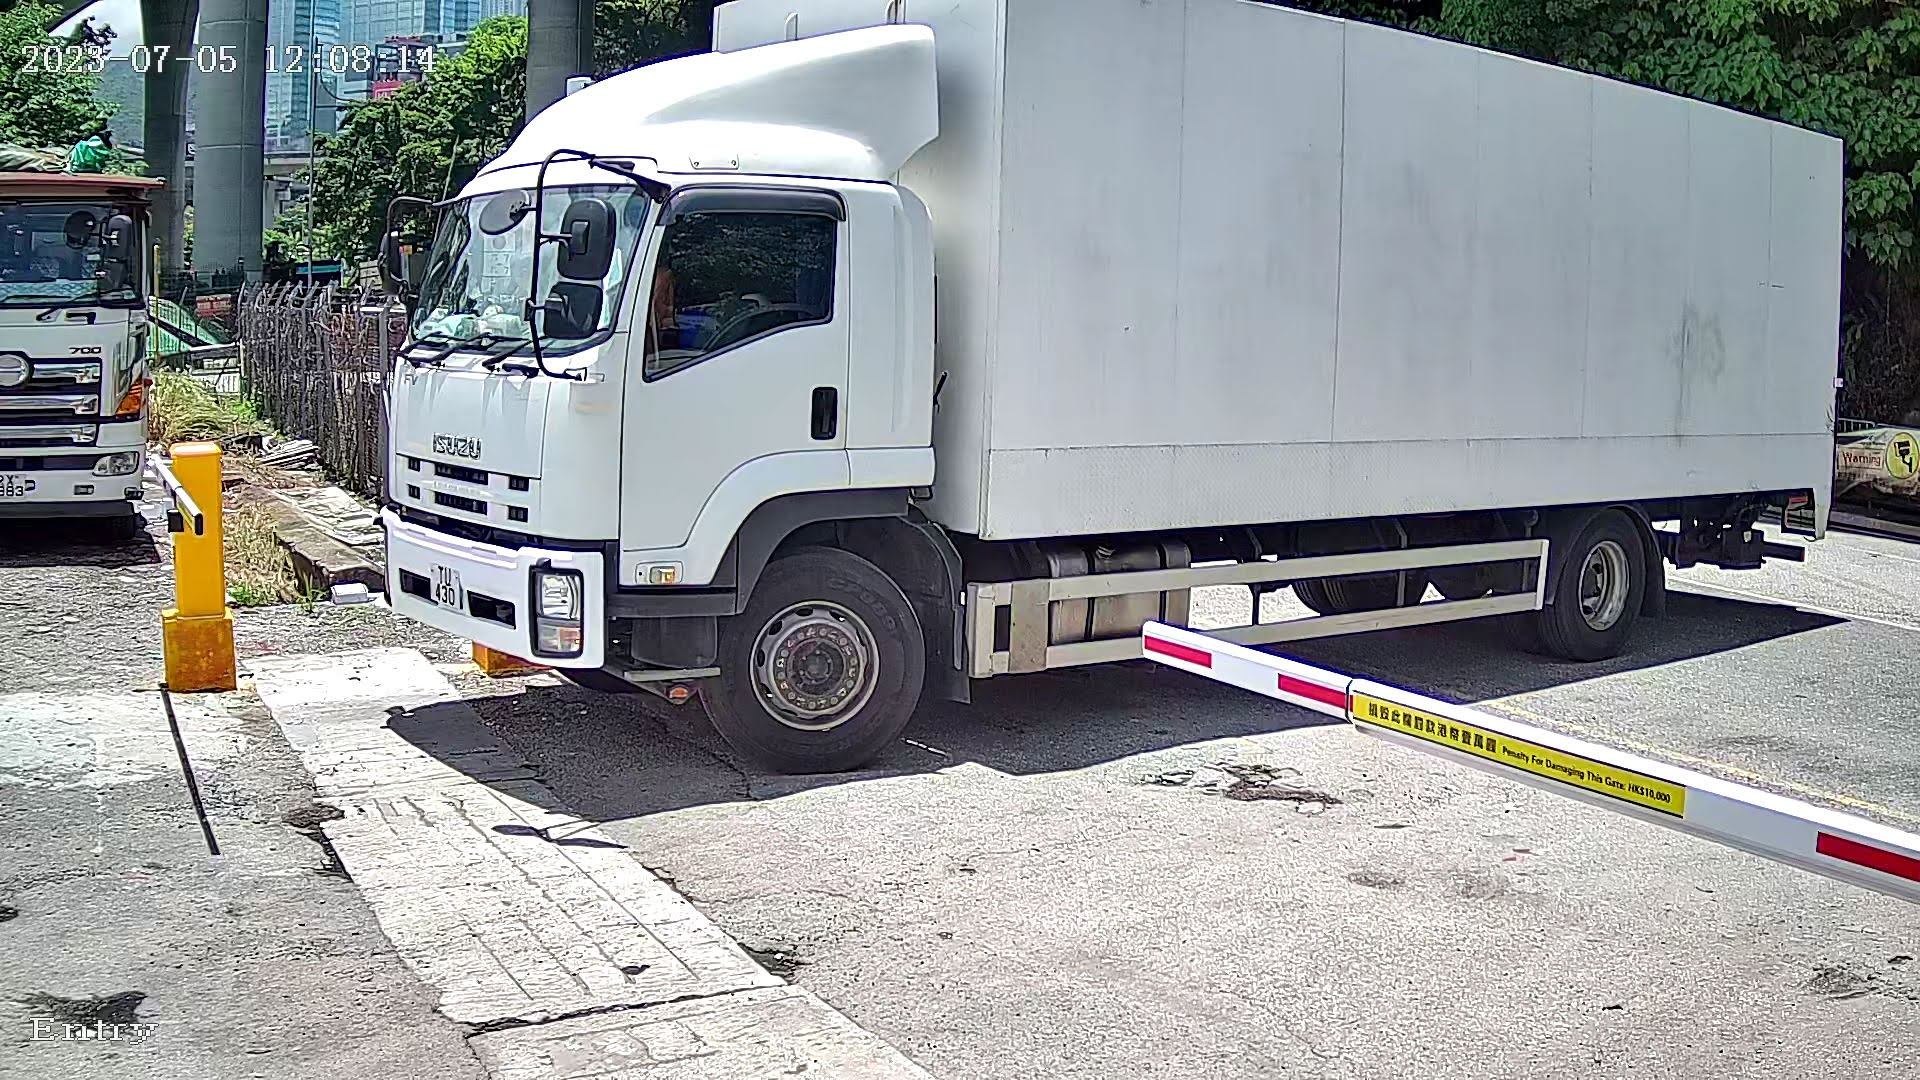truck: (328, 1, 1866, 831)
